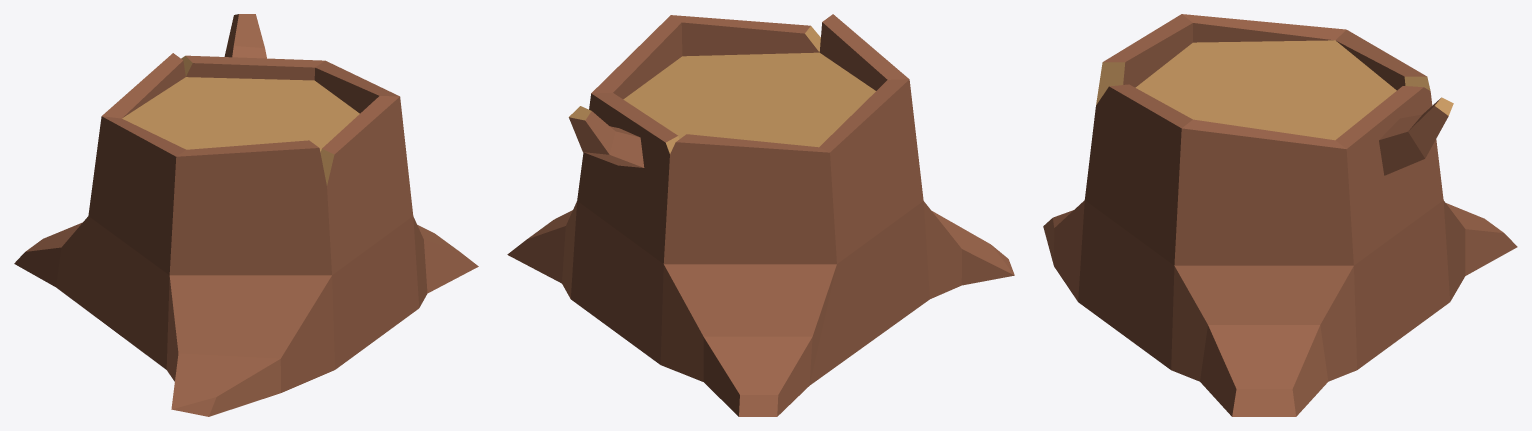
The model's file is TreeTrunk.fbx.
3 views of the same model, side by side, from view 1: azimuth 30°, elevation 25°; view 2: azimuth 150°, elevation 25°; view 3: azimuth 270°, elevation 25° (orthographic). The views are drawn at different scales.
Visible parts, largest first — view 1: Trunk; view 2: Trunk; view 3: Trunk.
Part boxes in pixels (x1,y1,x2,y2): Trunk: (14, 14, 478, 416); Trunk: (507, 14, 1014, 416); Trunk: (1043, 14, 1517, 416).
Size of the model in its own units: 100 by 55.66 by 98.66.
